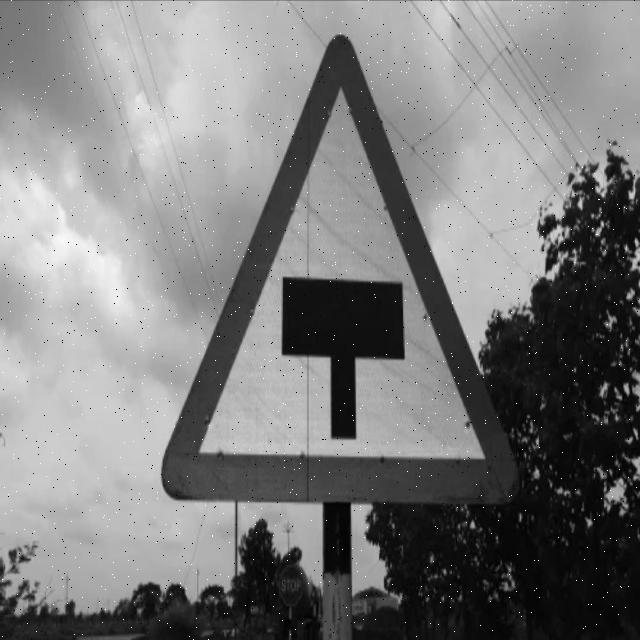tjunction_major_road_ahead: (157, 27, 528, 513)
